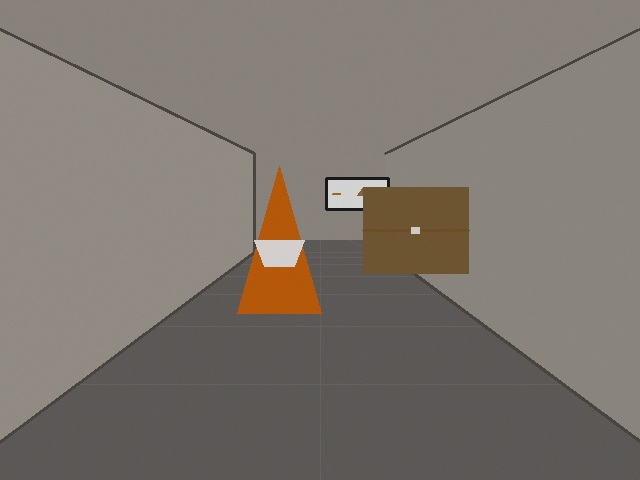box: (357, 187, 468, 273)
directional_sign: (326, 178, 388, 209)
obstacle: (237, 166, 321, 313)
